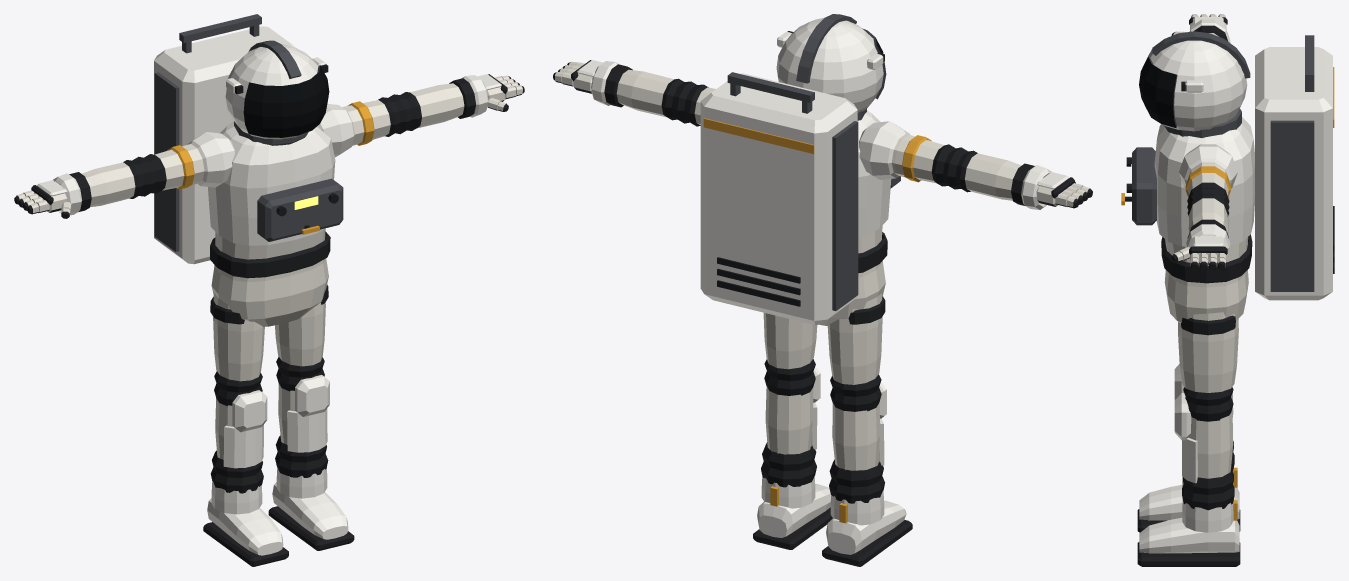
The model's file is astronaut_mixamo.fbx.
3 views of the same model, side by side, from view 1: azimuth 30°, elevation 25°; view 2: azimuth 150°, elevation 25°; view 3: azimuth 270°, elevation 25° (orthographic). The views are drawn at different scales.
Parts seen in each view (by area): view 1: astronaut_mixamo; view 2: astronaut_mixamo; view 3: astronaut_mixamo.
Boxes of the visible parts, x1,y1,x2,y2 form: astronaut_mixamo: [14, 14, 524, 566]; astronaut_mixamo: [553, 14, 1092, 566]; astronaut_mixamo: [1121, 14, 1334, 566].
Bounding box in the file's own units: 1.9 × 1.8 × 0.686.
